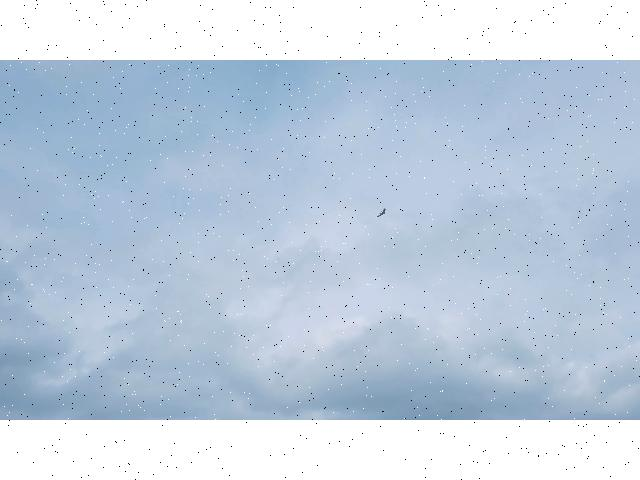Anti-Drone: (376, 202, 388, 222)
